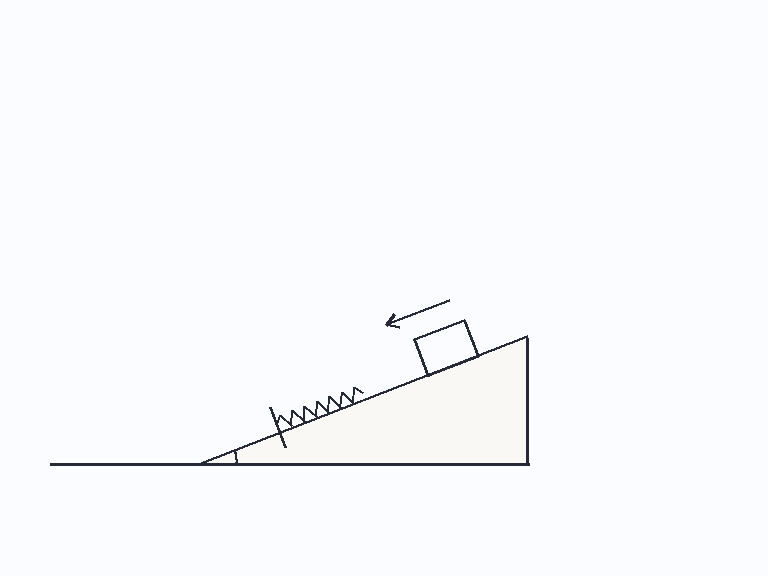block: (412, 318, 480, 377)
ramp: (195, 335, 529, 466)
spring: (274, 385, 364, 428)
